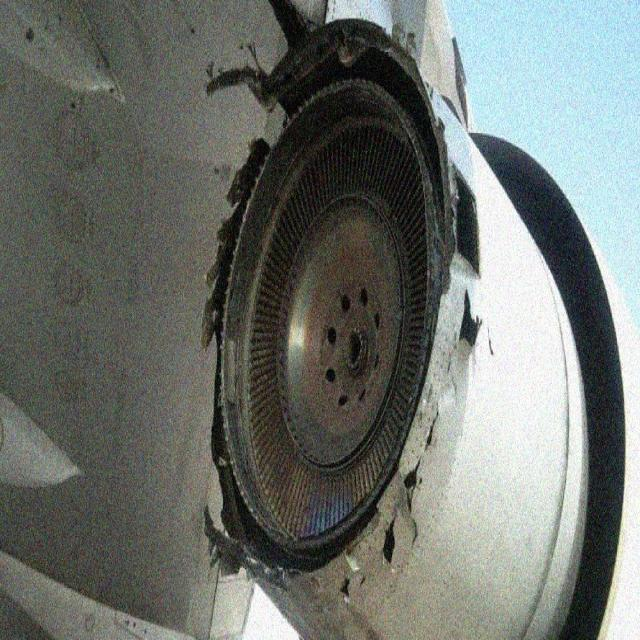crack: (338, 289, 486, 609)
